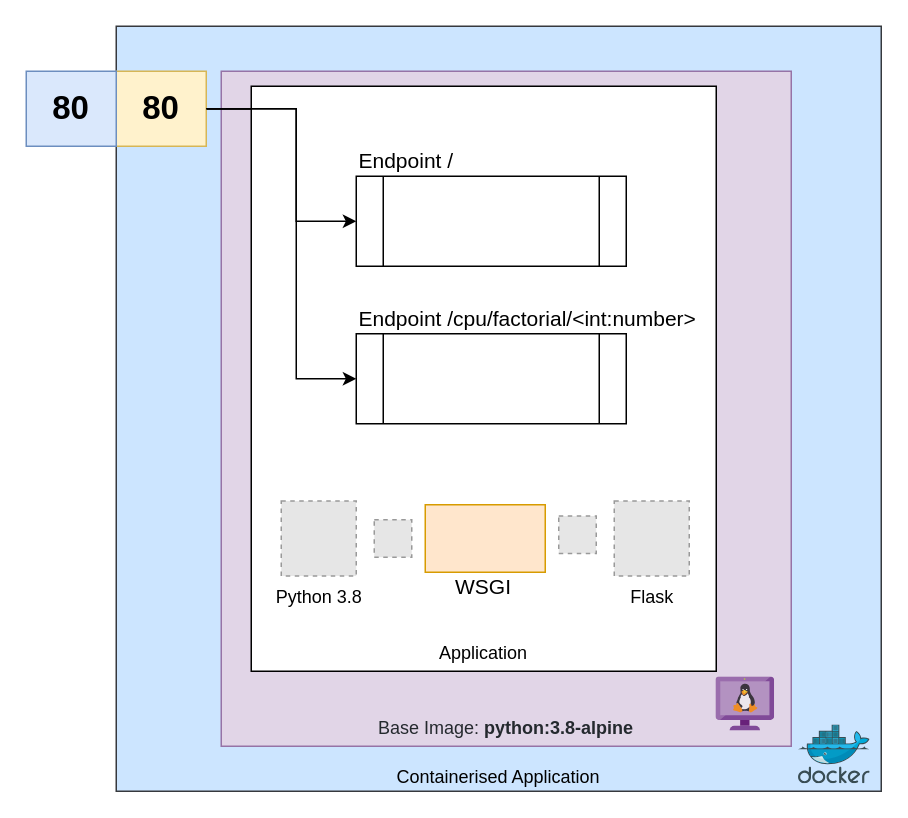
Some shapes in this 908 by 818 pixel diagram are drawn without their labels. Grey dashed boxes stand in for pictures. Each missing label, with the centre of its shape:
Factorial: point (490, 378)
Hello World: point (490, 220)
Waitress: point (484, 537)
